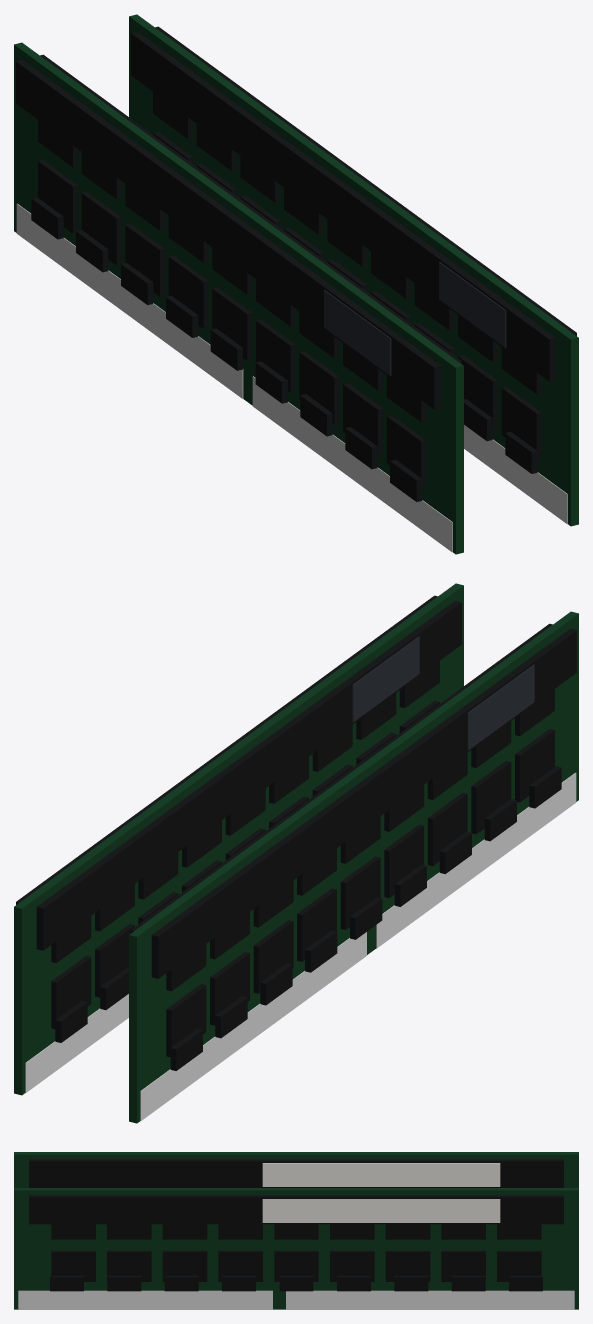
Rendered from hw_ram_ddr3_64gb.glb.
3 renders of one model, top to bottom at view 1: azimuth 30°, elevation 25°; view 2: azimuth 150°, elevation 25°; view 3: azimuth 270°, elevation 25°, orthographic. The views are drawn at different scales.
Visible parts, largest first — view 1: Stick_1, Body; view 2: Stick_1, Body; view 3: Body, Stick_1.
Part boxes in pixels (box(x1,y1,x2,y2)): Stick_1: box(14, 42, 463, 554); Body: box(129, 14, 578, 526); Stick_1: box(129, 611, 578, 1123); Body: box(14, 583, 463, 1095); Body: box(14, 1188, 578, 1309); Stick_1: box(14, 1152, 578, 1187).
Size of the model in its own units: 0.0252 by 0.031 by 0.133.
